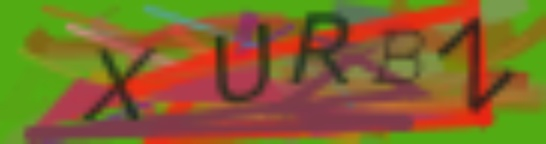B: (374, 27, 427, 88)
R: (289, 6, 353, 86)
U: (208, 20, 274, 105)
X: (81, 43, 158, 124)
Z: (434, 13, 518, 114)
